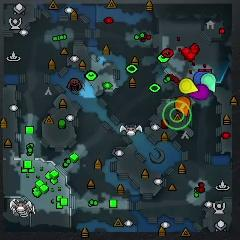p1: (194, 71, 208, 85)
p2: (200, 72, 216, 93)
p3: (189, 84, 210, 100)
p4: (180, 78, 198, 94)
p5: (175, 97, 190, 118)
